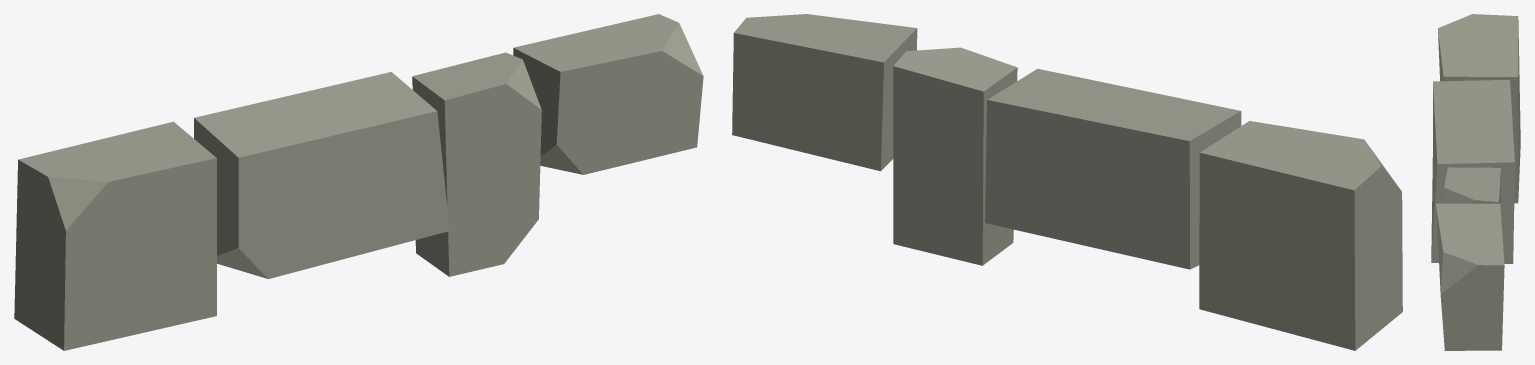
Rendered from edge_decor1.fbx.
3 renders of one model, left to right at view 1: azimuth 30°, elevation 25°; view 2: azimuth 150°, elevation 25°; view 3: azimuth 270°, elevation 25°, orthographic. The views are drawn at different scales.
Parts seen in each view (by area): view 1: edge_decor1; view 2: edge_decor1; view 3: edge_decor1.
Boxes of the visible parts, left/top/right/bottom form: edge_decor1: left=14, top=14, right=703, bottom=350; edge_decor1: left=732, top=14, right=1402, bottom=350; edge_decor1: left=1431, top=14, right=1520, bottom=350.
Bounding box in the file's own units: 5.52 × 0.8343 × 1.54.
